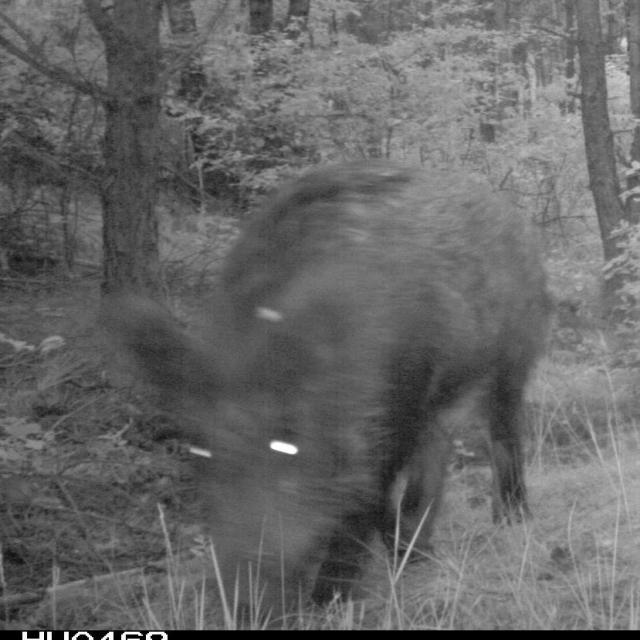pig: (53, 69, 560, 576)
